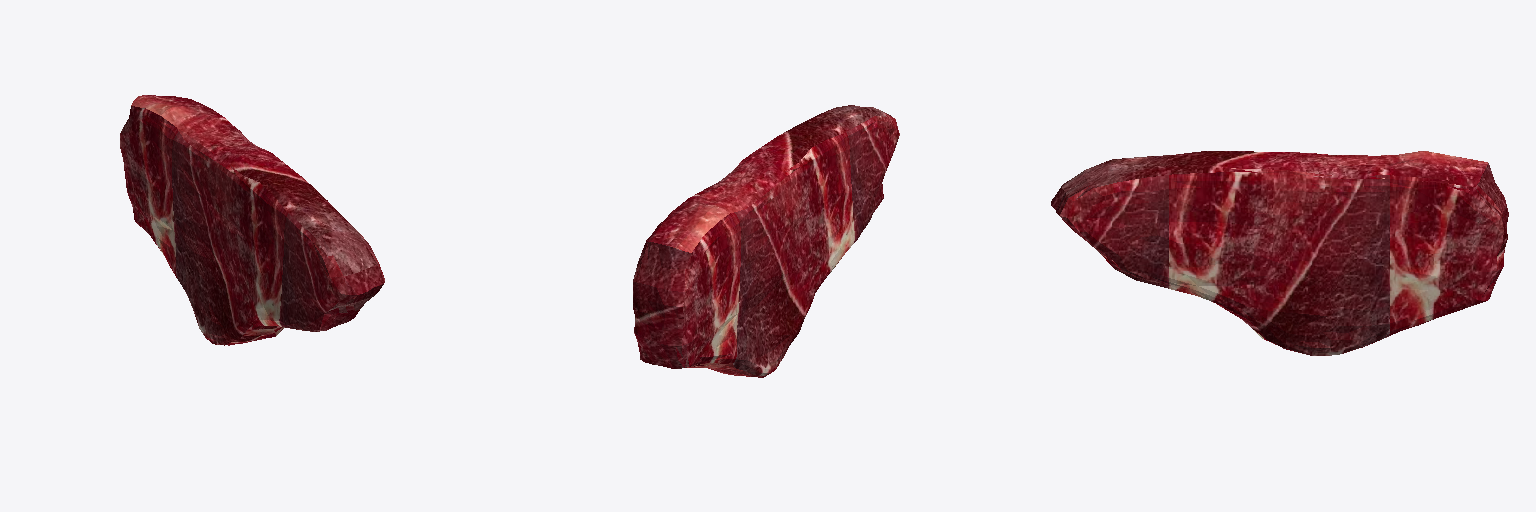
The picture shows the model from 3 angles: view 1: azimuth 30°, elevation 25°; view 2: azimuth 150°, elevation 25°; view 3: azimuth 270°, elevation 25°; orthographic projection.
Bounding box in the file's own units: 0.0168 × 0.0493 × 0.1034.
1 materials, 1 textured.